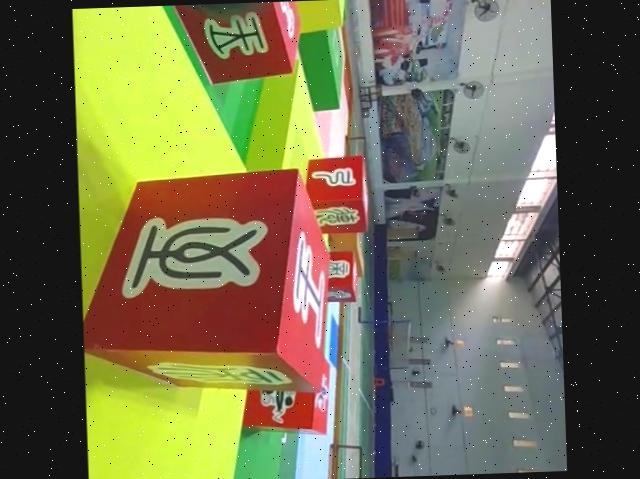R1: (239, 355, 334, 439)
R2 Fake: (78, 166, 334, 399), (303, 153, 370, 234), (308, 250, 359, 304)
R2 Real: (168, 1, 302, 86)
